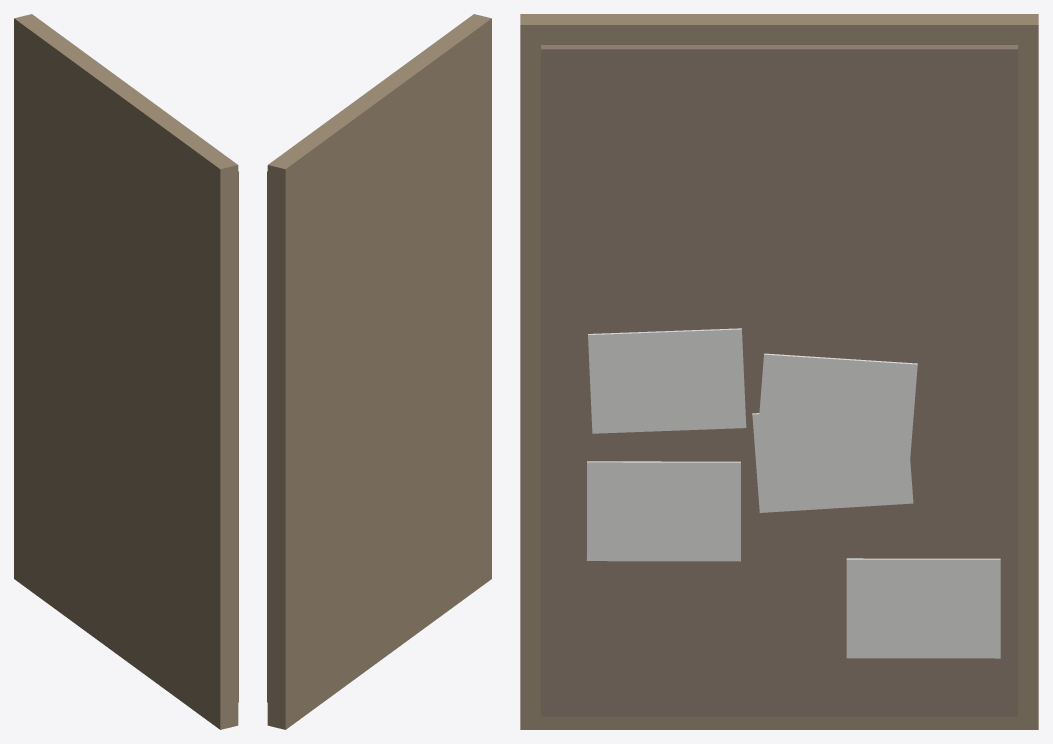
Rendered from noticeboard.glb.
3 views of the same model, side by side, from view 1: azimuth 30°, elevation 25°; view 2: azimuth 150°, elevation 25°; view 3: azimuth 270°, elevation 25° (orthographic). The views are drawn at different scales.
Parts seen in each view (by area): view 1: noticeboard_frame, noticeboard_cork; view 2: noticeboard_frame, noticeboard_cork; view 3: noticeboard_cork, noticeboard_frame, notice_paper2, notice_paper0, notice_paper1, notice_paper4, notice_paper3.
Boxes of the visible parts, left/top/right/bottom form: noticeboard_frame: left=14, top=14, right=238, bottom=729; noticeboard_cork: left=238, top=171, right=238, bottom=702; noticeboard_frame: left=267, top=14, right=491, bottom=729; noticeboard_cork: left=267, top=171, right=267, bottom=702; noticeboard_cork: left=541, top=45, right=1017, bottom=716; noticeboard_frame: left=520, top=14, right=1038, bottom=729; notice_paper2: left=846, top=558, right=1000, bottom=658; notice_paper0: left=588, top=328, right=746, bottom=433; notice_paper1: left=586, top=461, right=740, bottom=561; notice_paper4: left=752, top=405, right=913, bottom=512; notice_paper3: left=758, top=353, right=917, bottom=459.
Bounding box in the file's own units: 0.0875 × 1.5 × 1.
